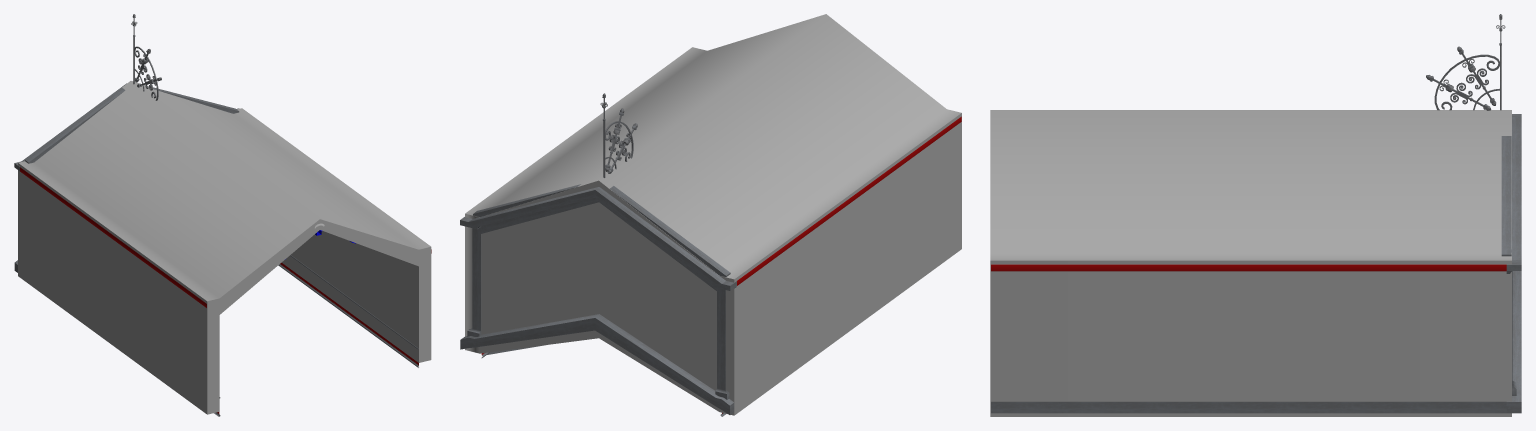
File: M_md_RoofTop_end_01.fbx
The picture shows the model from 3 angles, left to right: view 1: azimuth 30°, elevation 25°; view 2: azimuth 150°, elevation 25°; view 3: azimuth 270°, elevation 25°; orthographic projection. The views are drawn at different scales.
Visible parts, largest first — view 1: M_md_RoofTop_end_01_col, M_md_RoofTop_end_01_LOD0, M_md_RoofTop_end_01_dyn_LOD0; view 2: M_md_RoofTop_end_01_col, M_md_RoofTop_end_01_dyn_LOD0, M_md_RoofTop_end_01_LOD0; view 3: M_md_RoofTop_end_01_col, M_md_RoofTop_end_01_dyn_LOD0, M_md_RoofTop_end_01_LOD0.
Part boxes in pixels (x1,y1,x2,y2): M_md_RoofTop_end_01_col: (18,81,431,414); M_md_RoofTop_end_01_LOD0: (20,14,431,416); M_md_RoofTop_end_01_dyn_LOD0: (14,83,239,272); M_md_RoofTop_end_01_col: (465,14,961,415); M_md_RoofTop_end_01_dyn_LOD0: (460,184,736,414); M_md_RoofTop_end_01_LOD0: (481,93,961,416); M_md_RoofTop_end_01_col: (990,110,1511,416); M_md_RoofTop_end_01_dyn_LOD0: (991,114,1521,413); M_md_RoofTop_end_01_LOD0: (991,14,1506,271).
Size of what is drawn, in the model's own units: 555 by 574 by 825.
